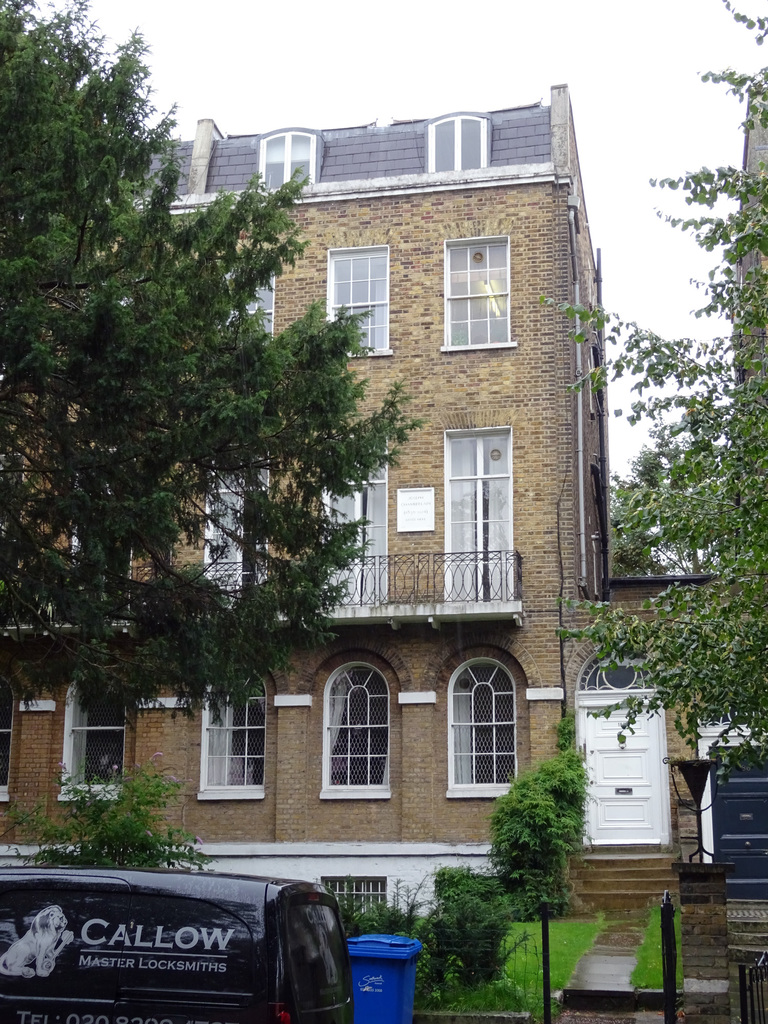Tree: (0, 0, 428, 740), (549, 8, 767, 796)
